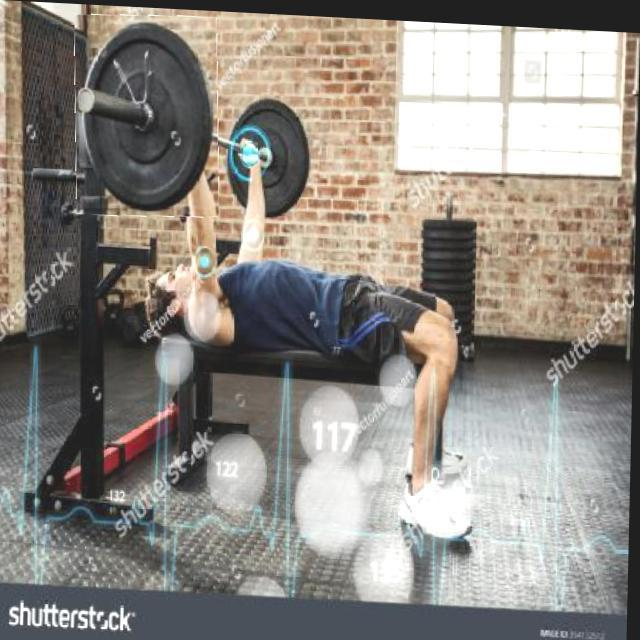barbell: (74, 12, 223, 220)
